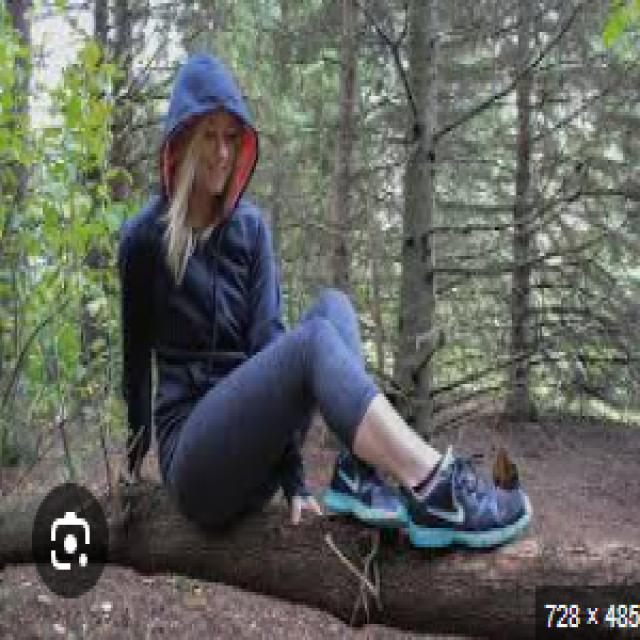4_capucha: (159, 51, 261, 228)
